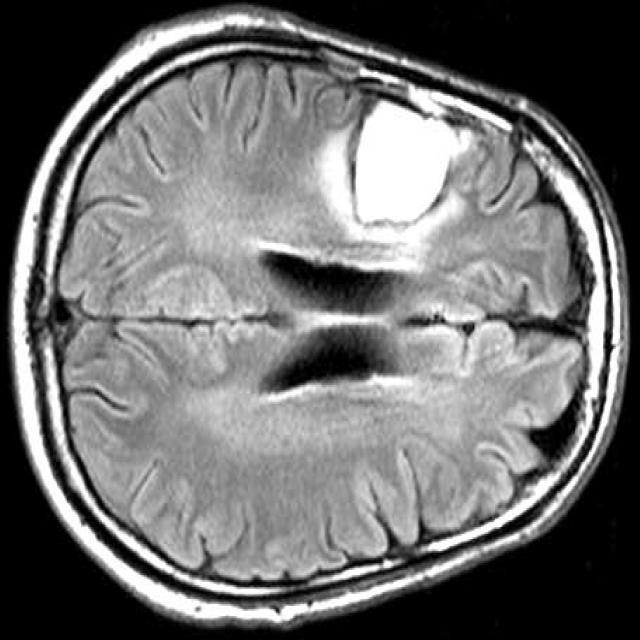tumor: (351, 99, 456, 226)
